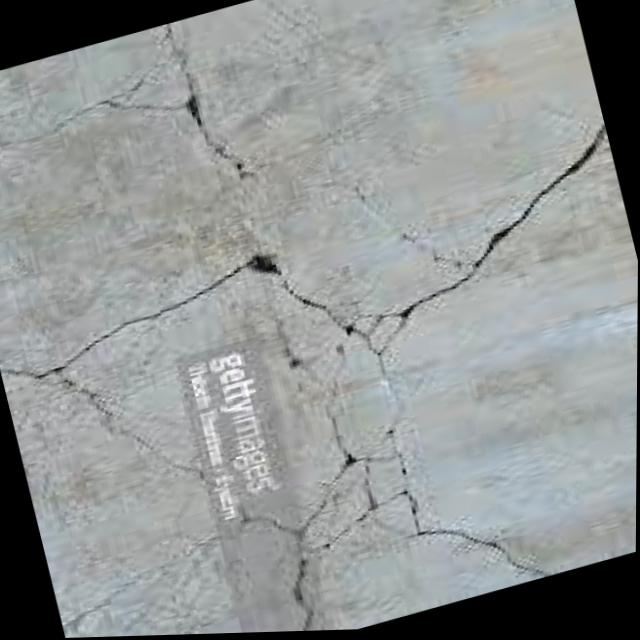Crack: (205, 30, 362, 298), (245, 326, 384, 609)
